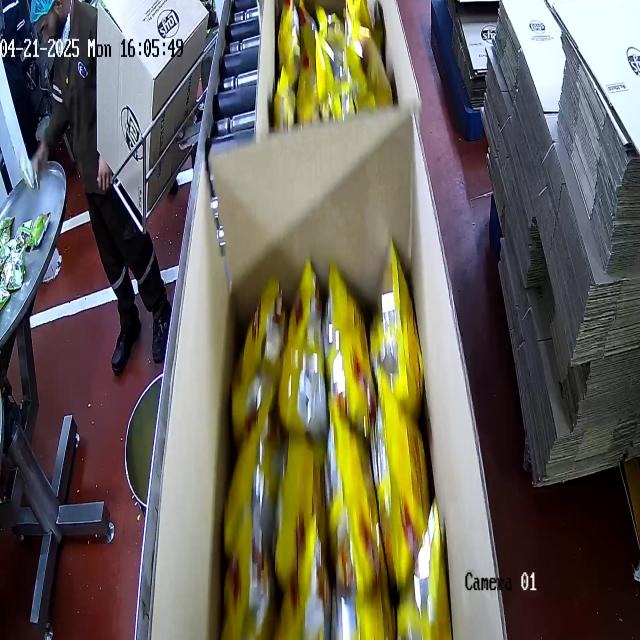SALTED: (201, 247, 460, 640), (273, 0, 394, 128)
